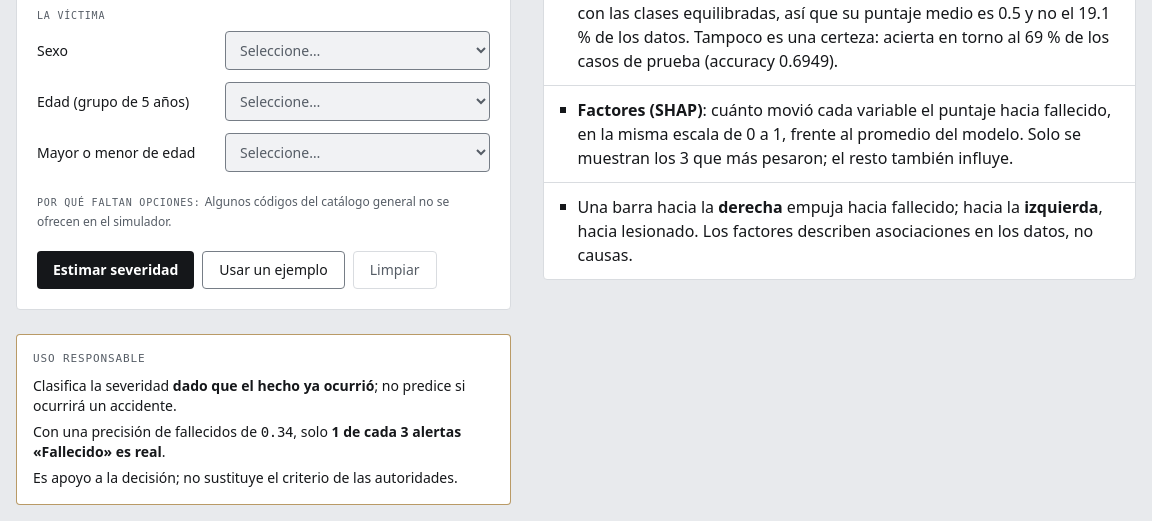
Test: Simulador › 503: avisa que el modelo no está disponible
(page scrolled)
Click the button "Usar un ejemplo". click: click(274, 270)
box: x1=202 y1=251 x2=345 y2=289
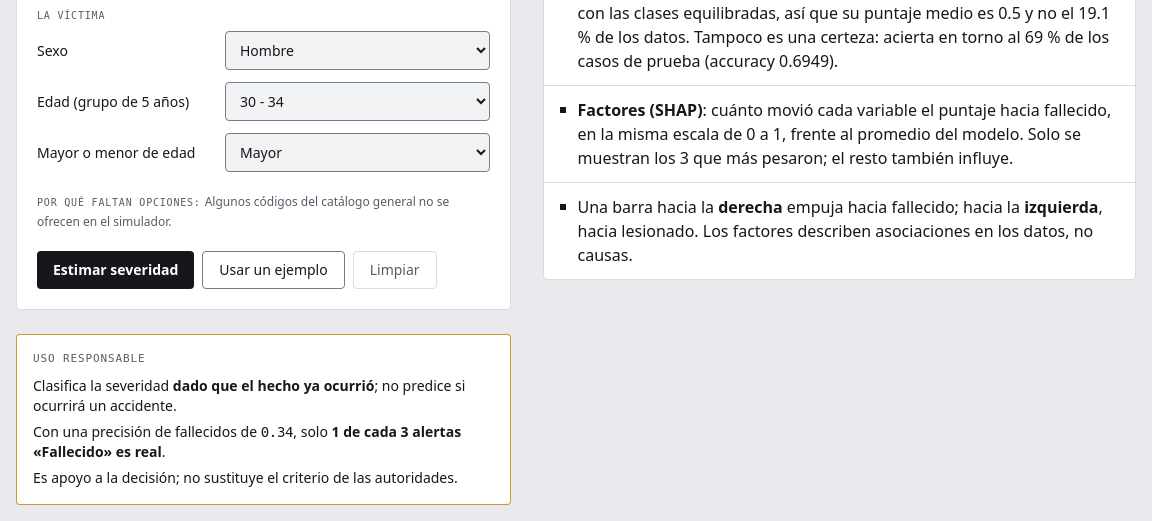
Click the button "Estimar severidad". click: click(116, 270)
box: x1=37 y1=251 x2=194 y2=289
(page scrolled)
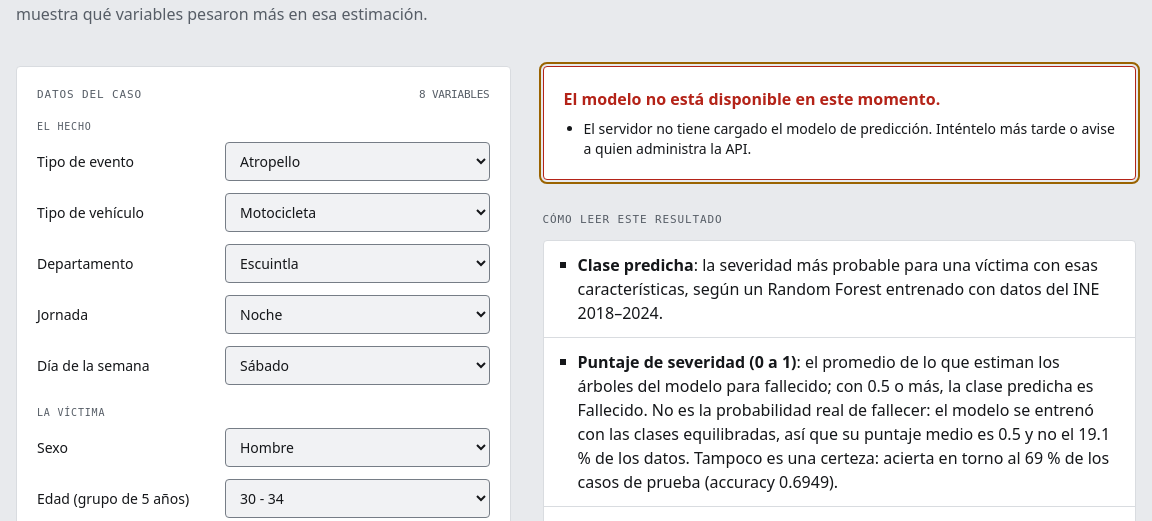
Check: the text "El modelo no está disponible en este momento." is shown, box x1=564 y1=88 x2=940 y2=110
